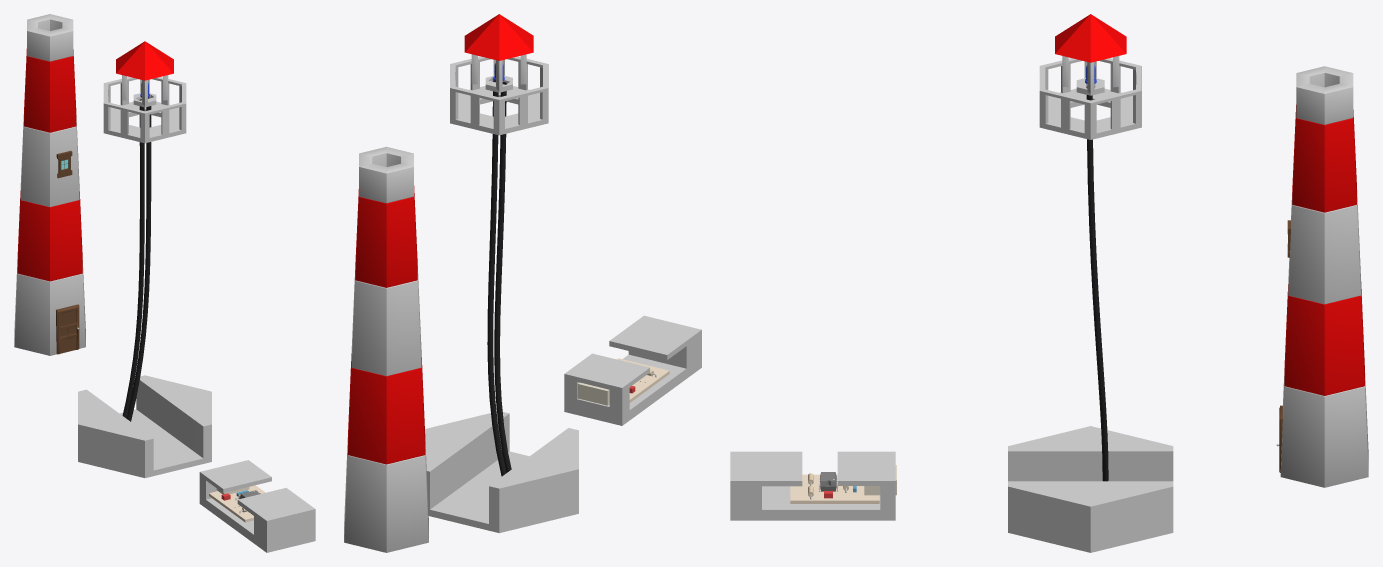
File: obudowa_rozlozona.fbx
The picture shows the model from 3 angles, left to right: view 1: azimuth 30°, elevation 25°; view 2: azimuth 150°, elevation 25°; view 3: azimuth 270°, elevation 25°; orthographic projection. The views are drawn at different scales.
Visible parts, largest first — view 1: lighthouse, base, drawer, handrails, cables, roof, door, ekomigacz, roof_base; view 2: lighthouse, base, drawer, handrails, cables, roof, ekomigacz, roof_base; view 3: lighthouse, base, drawer, handrails, roof, cables, ekomigacz.
Boxes of the visible parts, box(x1,y1,x2,y2) form: lighthouse: box(14, 14, 85, 355); base: box(78, 375, 211, 477); drawer: box(199, 460, 315, 552); handrails: box(103, 77, 186, 143); cables: box(122, 97, 151, 421); roof: box(116, 41, 173, 80); door: box(56, 304, 79, 354); ekomigacz: box(209, 485, 265, 522); roof_base: box(122, 75, 168, 105); lighthouse: box(344, 146, 428, 552); base: box(425, 412, 578, 533); drawer: box(564, 315, 701, 425); handrails: box(450, 56, 548, 135); cables: box(487, 80, 511, 476); roof: box(464, 14, 533, 60); ekomigacz: box(577, 358, 669, 405); roof_base: box(471, 54, 526, 90); lighthouse: box(1280, 66, 1368, 487); base: box(1008, 426, 1173, 552); drawer: box(730, 451, 895, 520); handrails: box(1039, 58, 1141, 139); roof: box(1055, 14, 1126, 62); cables: box(1086, 87, 1108, 481); ekomigacz: box(790, 465, 896, 503).
Bounding box in the file's own units: 276 × 82.59 × 238.
